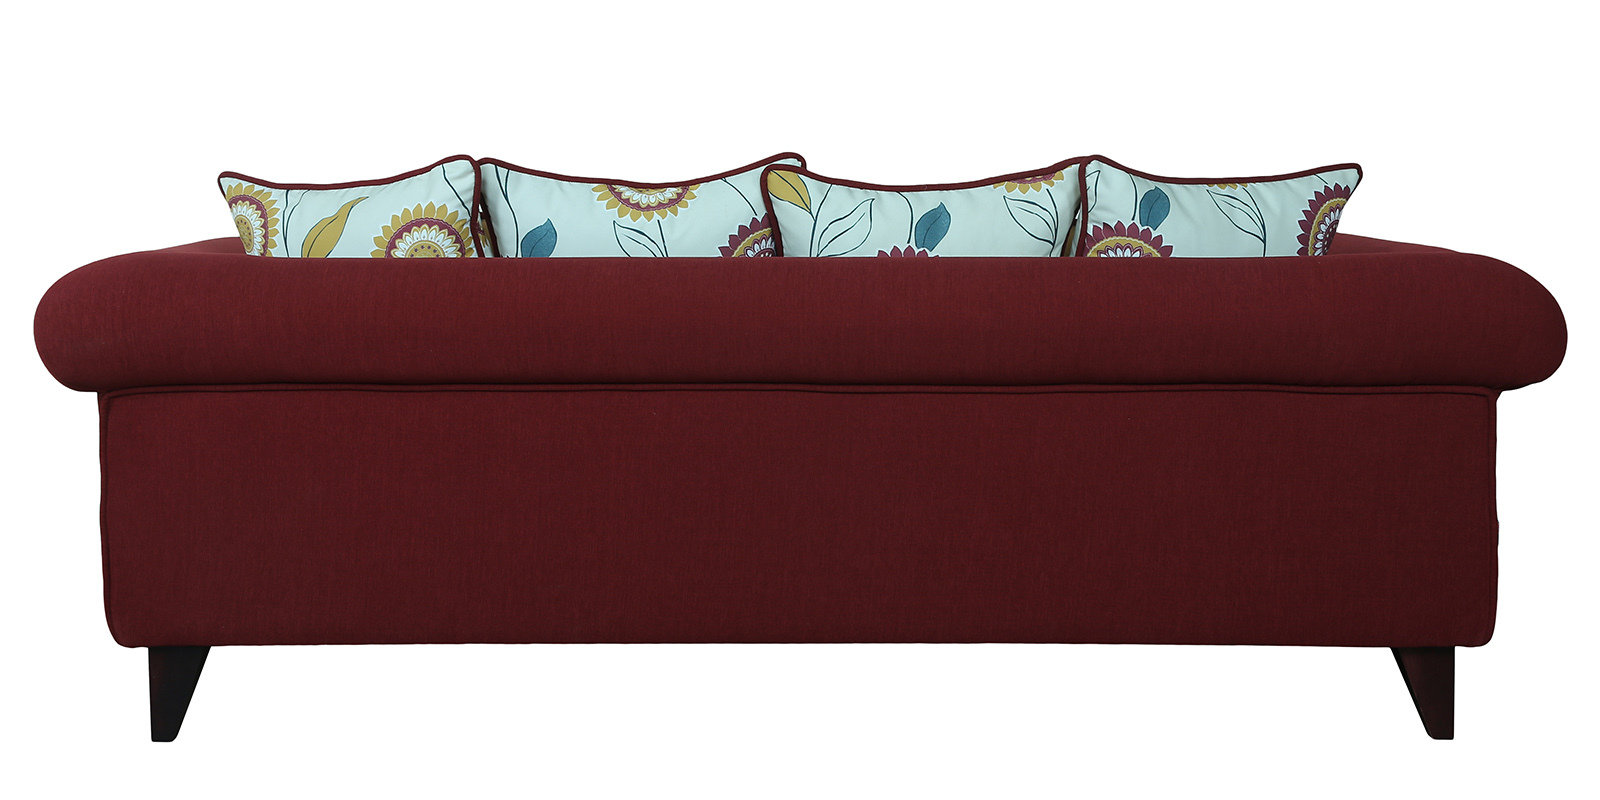Cielo Three Seater Sofa in Garnet Red Colour by CasaCraft: (31, 133, 1578, 702)
